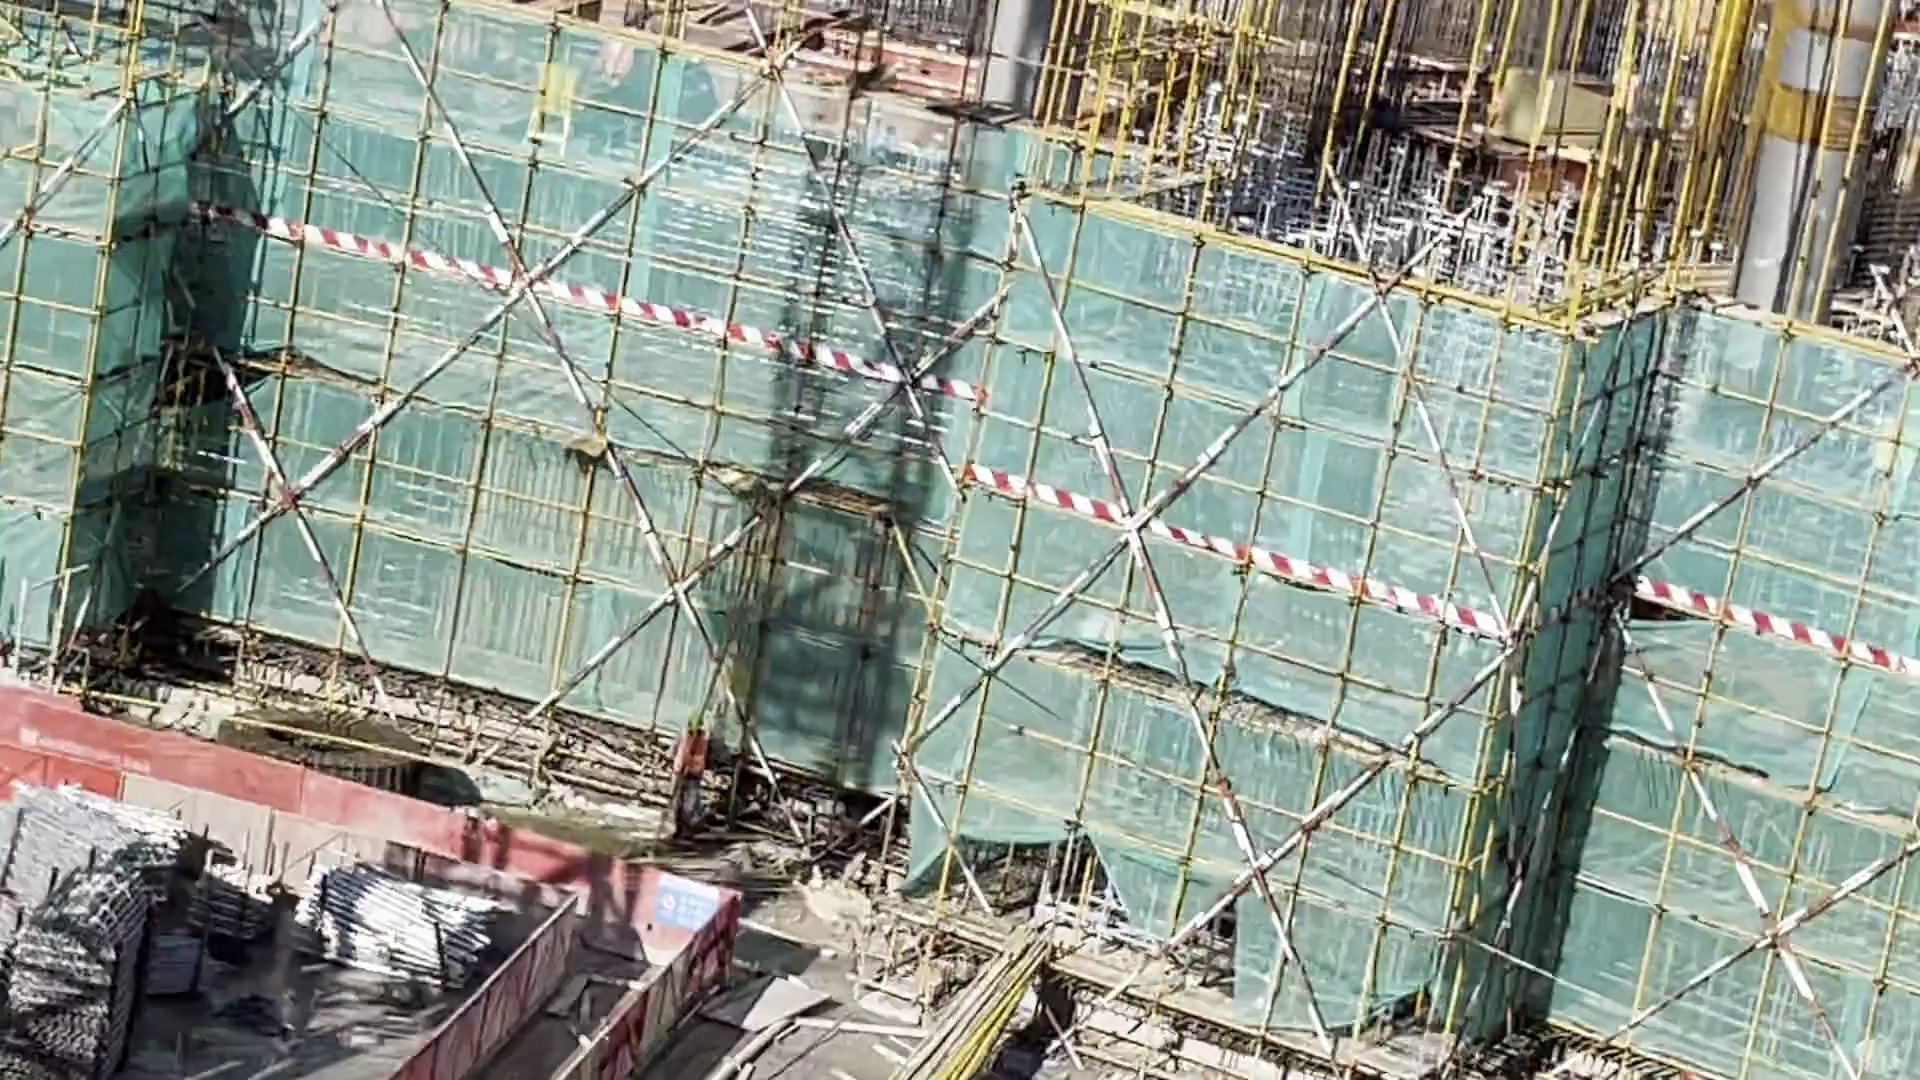fence: (34, 711, 381, 866), (487, 857, 702, 1080)
scaffold: (15, 857, 131, 1062), (328, 833, 463, 992), (1, 791, 160, 916), (211, 847, 281, 926)
